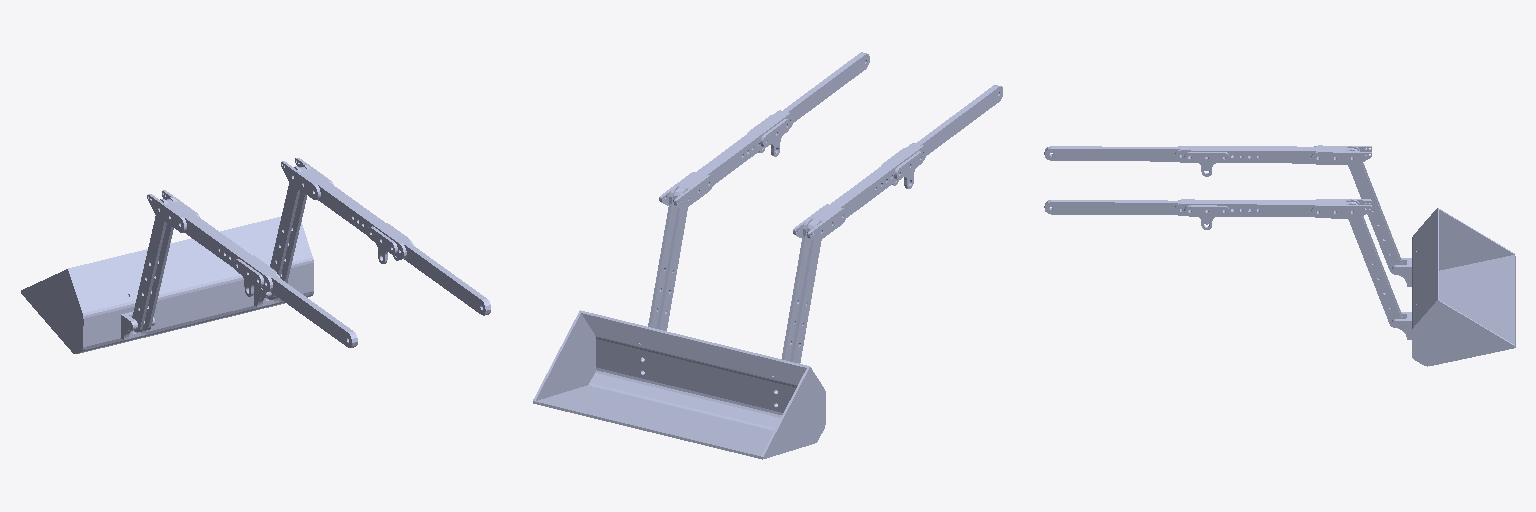
The robot description file, URDF, robot "arm2":
<?xml version="1.0"?>
<robot name="arm2" xmlns:xacro="http://www.ros.org/wiki/xacro">
  <link
    name="base">
    <inertial>
      <origin
        xyz="-8.9512E-17 0.080906 0.065805"
        rpy="0 0 0" />
      <mass
        value="1.6502" />
      <inertia
        ixx="0"
        ixy="0"
        ixz="0"
        iyy="0"
        iyz="0"
        izz="0" />
    </inertial>
    <visual>
      <origin
        xyz="0 0 0"
        rpy="0 0 0" />
      <geometry>
        <mesh
          filename="package://arm2/meshes/base.STL" />
      </geometry>
      <material
        name="">
        <color
          rgba="0.89804 0.91765 0.92941 1" />
      </material>
    </visual>
    <collision>
      <origin
        xyz="0 0 0"
        rpy="0 0 0" />
      <geometry>
        <mesh
          filename="package://arm2/meshes/base.STL" />
      </geometry>
    </collision>
  </link>
  <link
    name="arm">
    <inertial>
      <origin
        xyz="2.1756E-15 0.38607 -0.022642"
        rpy="0 0 0" />
      <mass
        value="1.6541" />
      <inertia
        ixx="0.020029"
        ixy="-3.1779E-16"
        ixz="1.6265E-16"
        iyy="0.0233"
        iyz="0.0034648"
        izz="0.041275" />
    </inertial>
    <visual>
      <origin
        xyz="0 0 0"
        rpy="0 0 0" />
      <geometry>
        <mesh
          filename="package://arm2/meshes/arm.STL" />
      </geometry>
      <material
        name="">
        <color
          rgba="0.79216 0.81961 0.93333 1" />
      </material>
    </visual>
    <collision>
      <origin
        xyz="0 0 0"
        rpy="0 0 0" />
      <geometry>
        <mesh
          filename="package://arm2/meshes/arm.STL" />
      </geometry>
    </collision>
  </link>
  <joint
    name="arm_joint"
    type="revolute">
    <origin
      xyz="0 0.068765 0.18244"
      rpy="-0.0065548 8.1987E-19 1.4009E-16" />
    <parent
      link="base" />
    <child
      link="arm" />
    <axis
      xyz="-1 0 0" />
    <limit
      effort="1000"
      velocity="10" />
  </joint>
  <link
    name="bucket">
    <inertial>
      <origin
        xyz="-1.7467E-14 0.081094 -0.0092968"
        rpy="0 0 0" />
      <mass
        value="0.74403" />
      <inertia
        ixx="0.00060709"
        ixy="1.575E-16"
        ixz="4.731E-16"
        iyy="0.0060723"
        iyz="-4.2694E-06"
        izz="0.0066375" />
    </inertial>
    <visual>
      <origin
        xyz="0 0 0"
        rpy="0 0 0" />
      <geometry>
        <mesh
          filename="package://arm2/meshes/bucket.STL" />
      </geometry>
      <material
        name="">
        <color
          rgba="0.79216 0.81961 0.93333 1" />
      </material>
    </visual>
    <collision>
      <origin
        xyz="0 0 0"
        rpy="0 0 0" />
      <geometry>
        <mesh
          filename="package://arm2/meshes/bucket.STL" />
      </geometry>
    </collision>
  </link>
  <joint
    name="bucket_joint"
    type="revolute">
    <origin
      xyz="0 0.63123 -0.22318"
      rpy="0.0093956 -2.6528E-16 1.0777E-16" />
    <parent
      link="arm" />
    <child
      link="bucket" />
    <axis
      xyz="-1 0 0" />
    <limit
      effort="1000"
      velocity="10" />
  </joint>
</robot>

--- Facts derived from the render (not from the file) ---
Views: 3 orthographic renders of the robot side by side, from view 1: azimuth 30°, elevation 25°; view 2: azimuth 150°, elevation 25°; view 3: azimuth 270°, elevation 25°.
Model arm2 with 3 links and 2 joints (2 revolute), rooted at base, posed all joints at 0.
Links seen in each view (by area): view 1: bucket, arm; view 2: bucket, arm; view 3: arm, bucket.
Boxes of the visible links, box(x1,y1,x2,y2) form: bucket: box(21, 217, 313, 353); arm: box(132, 158, 490, 347); bucket: box(533, 310, 825, 459); arm: box(648, 52, 1002, 363); arm: box(1044, 145, 1402, 327); bucket: box(1392, 208, 1515, 366).
Size in the robot's own frame: 0.4 by 0.8605 by 0.2945 metres.
2 mesh visuals loaded from 3 distinct referenced files (2 binary STL); not drawn: 1 (reference not matched to a file when rendering).